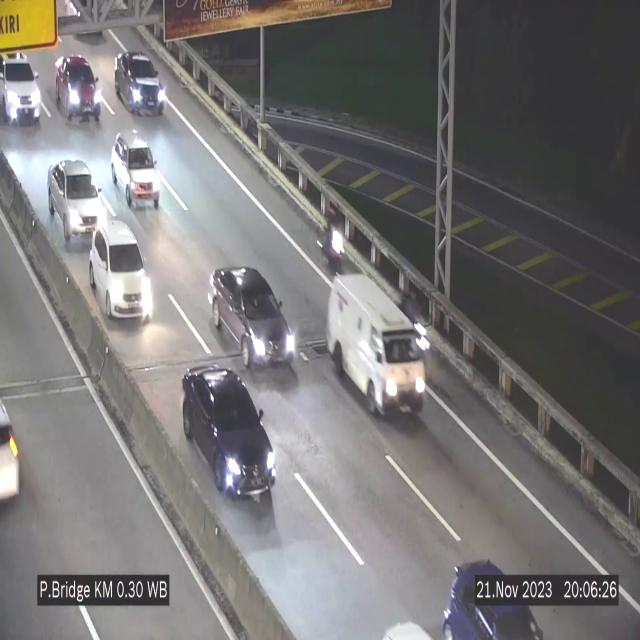Car: (326, 274, 426, 416), (182, 364, 276, 512), (439, 547, 544, 640), (208, 266, 296, 370), (89, 212, 153, 320), (109, 128, 169, 220), (51, 155, 109, 248), (52, 46, 106, 131), (114, 50, 166, 114), (0, 54, 41, 125)
Motorcycle: (320, 204, 352, 274), (401, 288, 430, 358)
